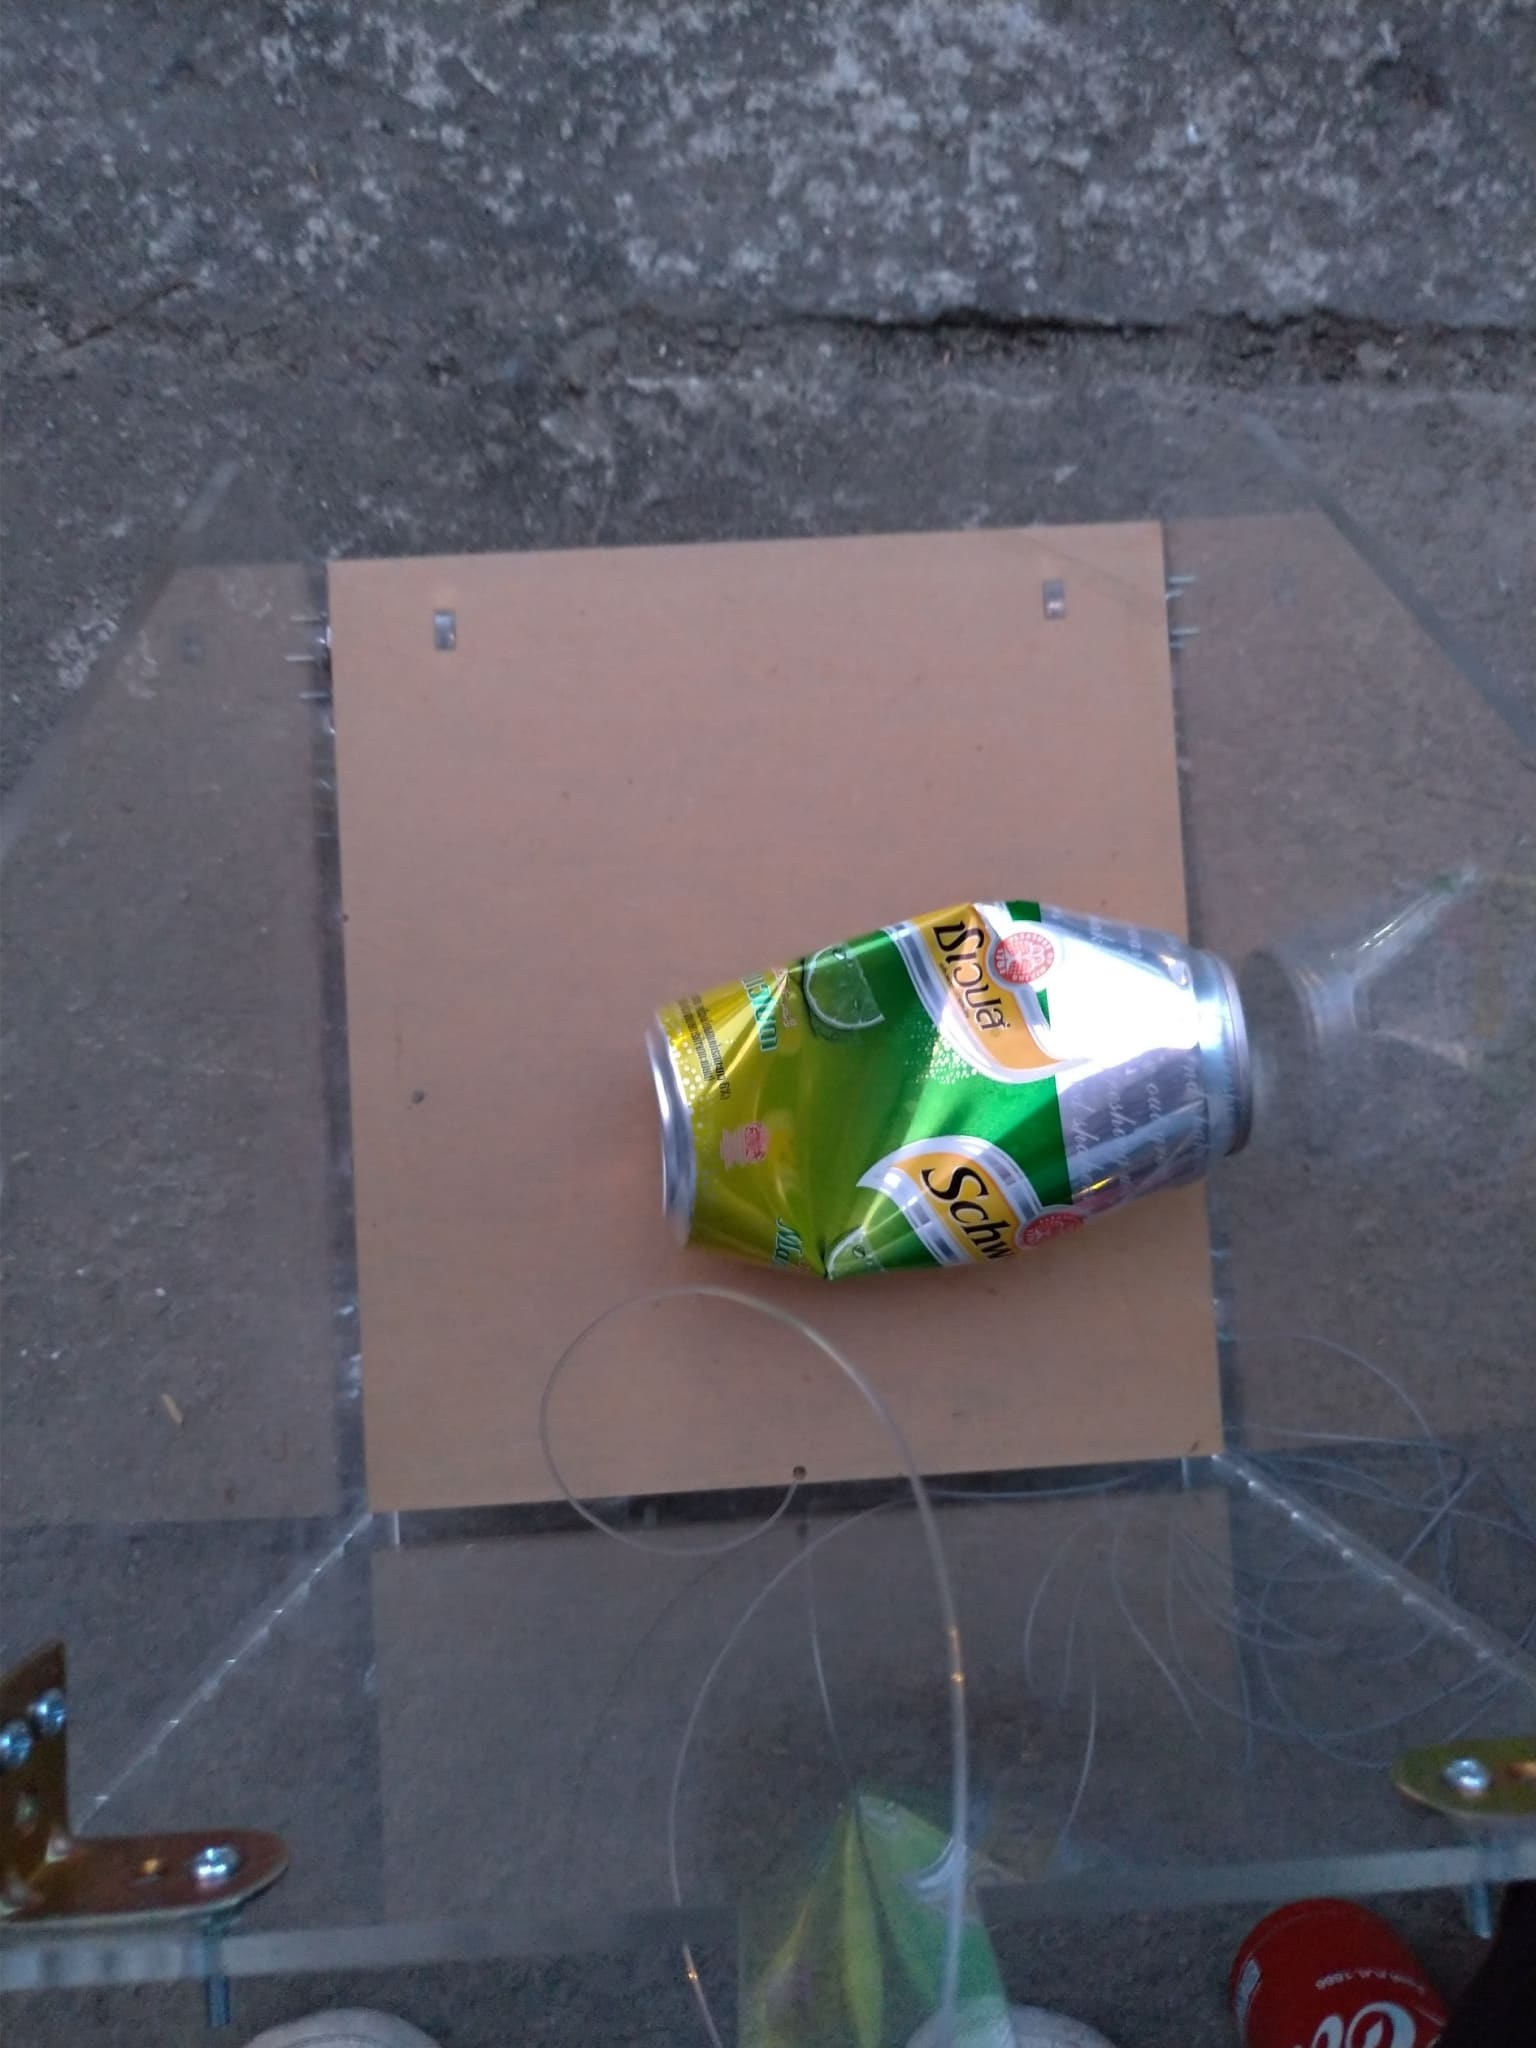AlCan: (641, 890, 1249, 1287)
